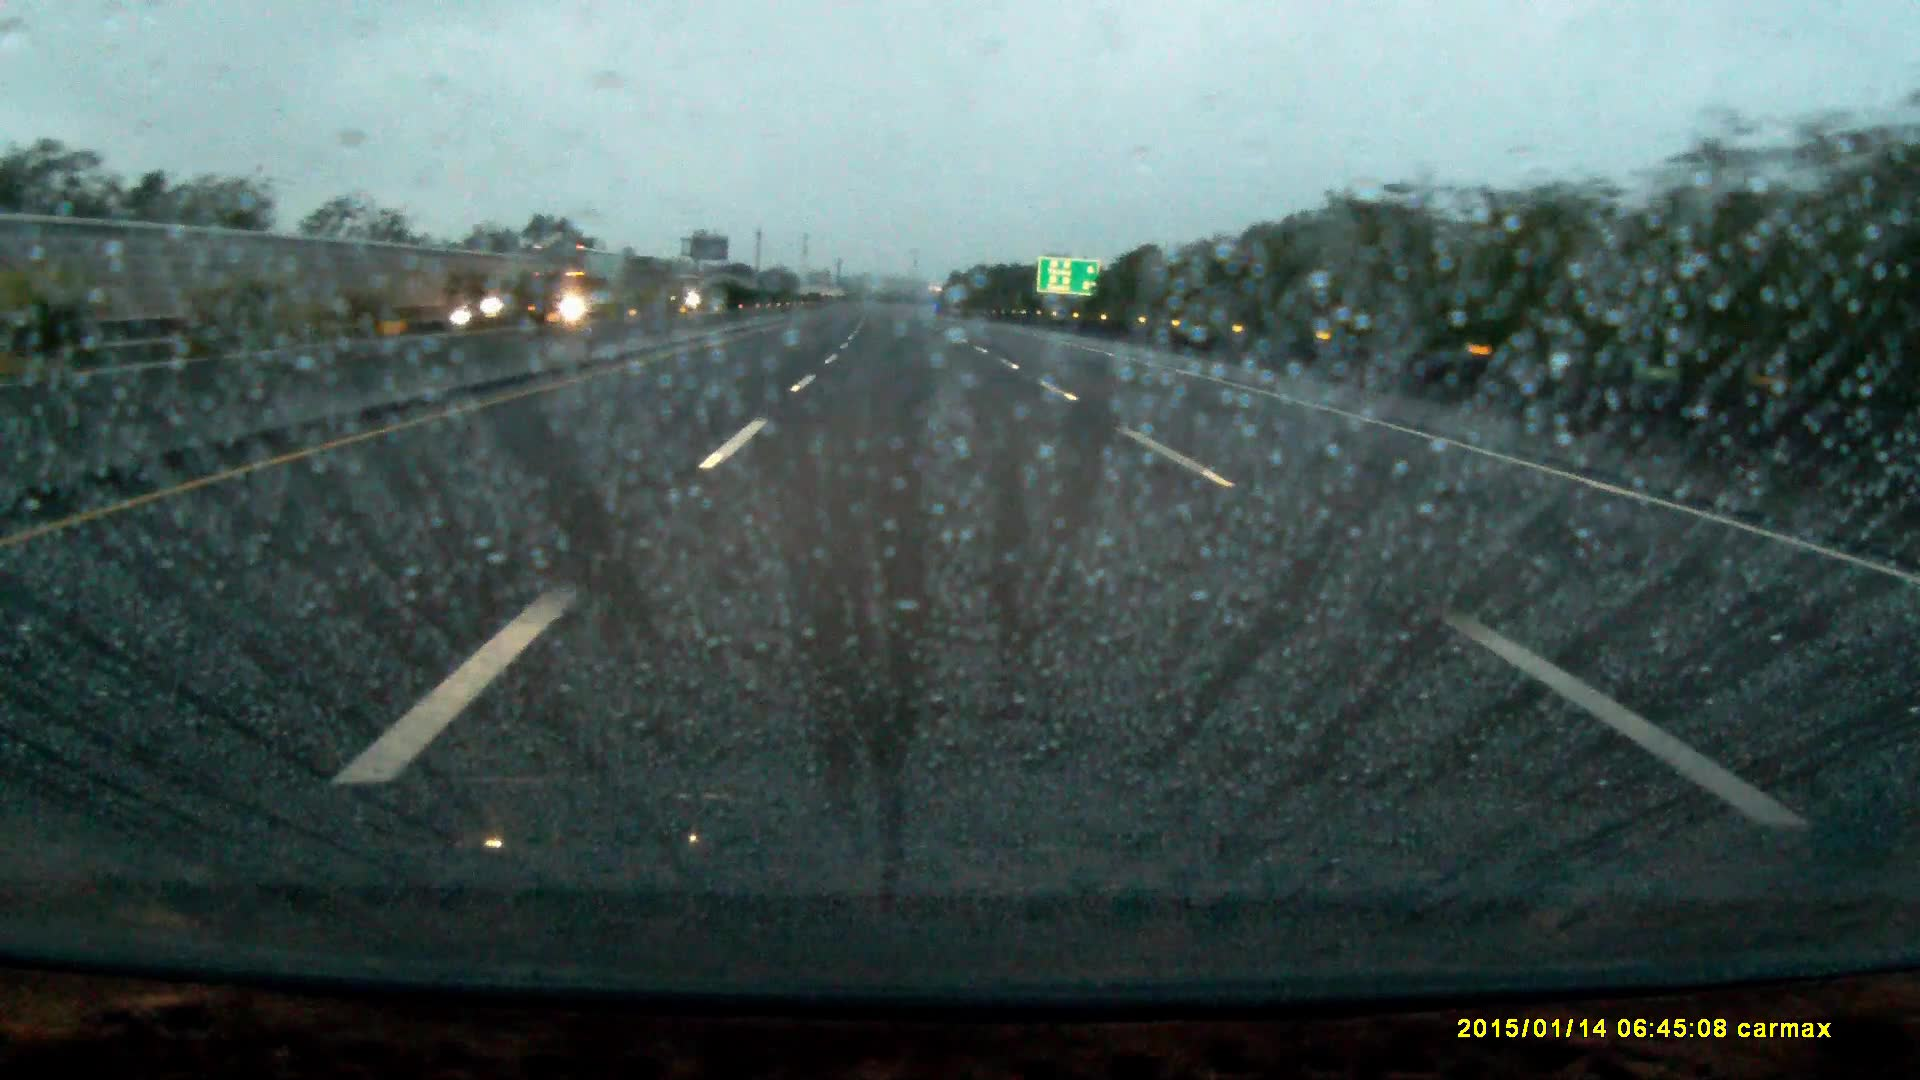vehicle: (535, 244, 628, 319), (448, 285, 524, 327)
